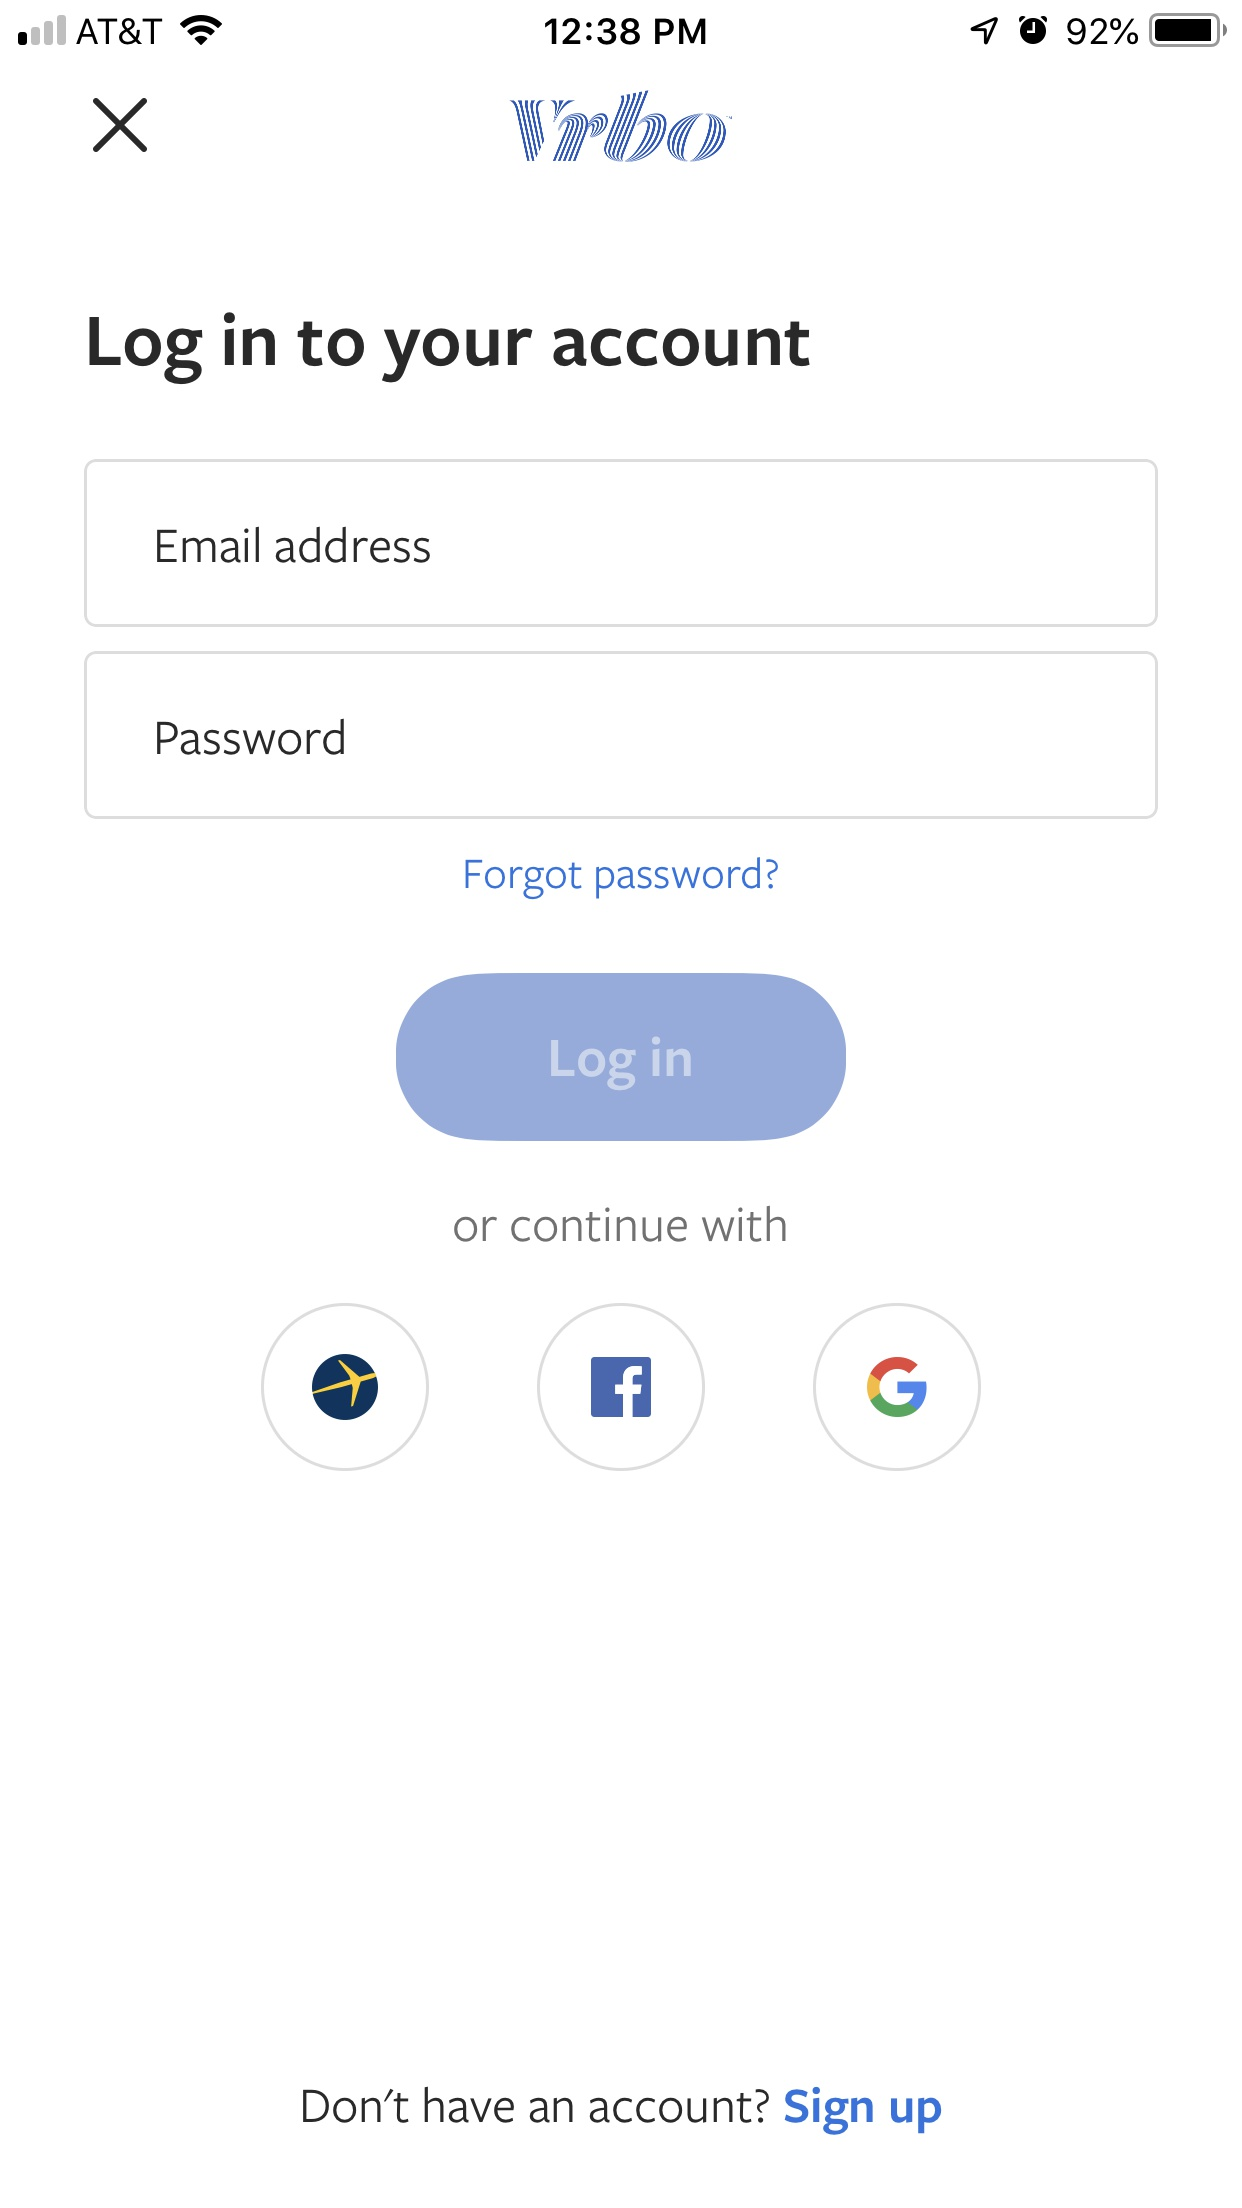EditText: (83, 651, 1159, 820), (83, 459, 1159, 629)
Icon: (535, 1303, 707, 1473), (811, 1303, 983, 1473), (94, 99, 149, 155)
Image: (259, 1303, 431, 1473), (510, 89, 726, 164)
Text: (89, 312, 810, 387), (303, 2087, 942, 2137), (466, 857, 779, 901), (453, 1206, 787, 1244), (156, 528, 431, 564), (158, 717, 346, 757)
TextButton: (396, 974, 848, 1142)
UpperTaskBar: (2, 2, 1242, 49)
